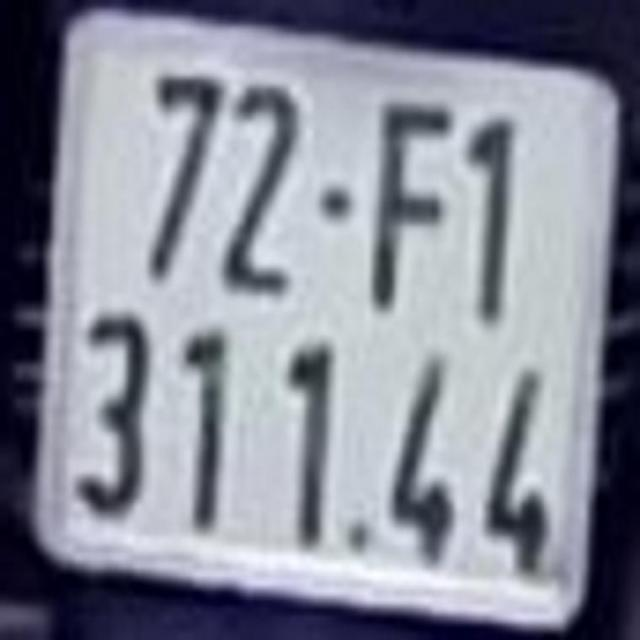1: (279, 336, 340, 554), (462, 107, 520, 327), (178, 321, 232, 536)
2: (228, 85, 299, 296)
3: (75, 309, 157, 520)
4: (481, 362, 556, 583), (388, 347, 456, 560)
7: (142, 73, 221, 287)
F: (371, 98, 453, 316)
